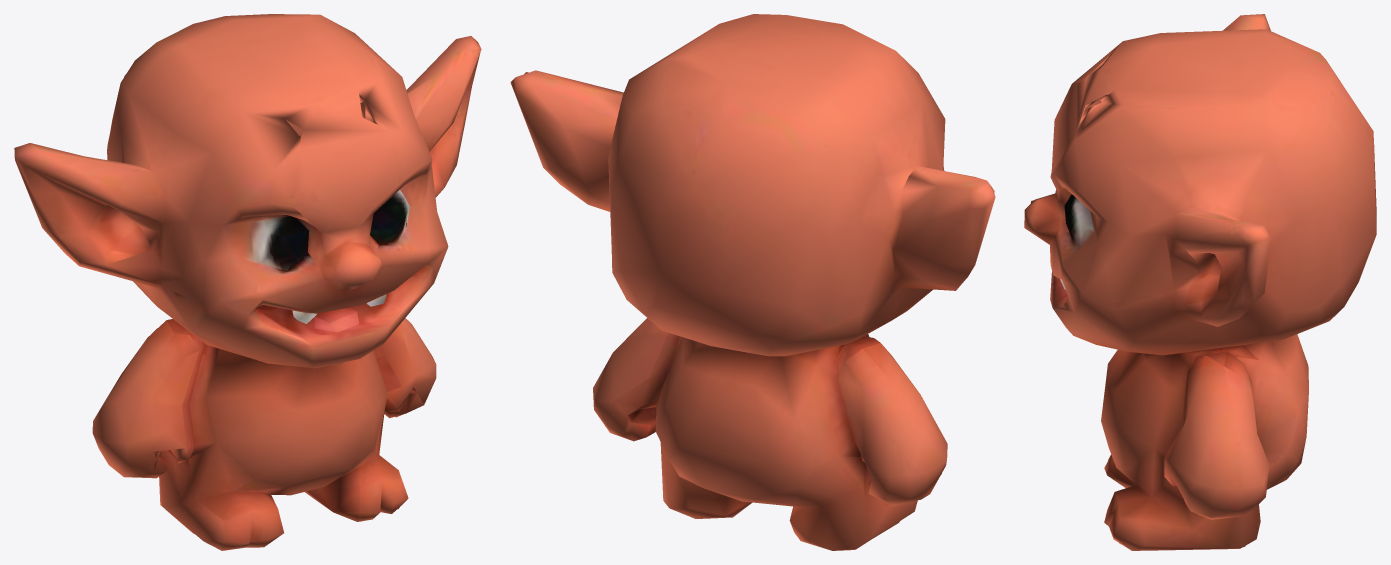
The model's file is x-statue-goblin.glb.
3 views of the same model, side by side, from view 1: azimuth 30°, elevation 25°; view 2: azimuth 150°, elevation 25°; view 3: azimuth 270°, elevation 25° (orthographic). The views are drawn at different scales.
Parts seen in each view (by area): view 1: geometry_0; view 2: geometry_0; view 3: geometry_0.
Boxes of the visible parts, x1,y1,x2,y2 form: geometry_0: (14, 14, 481, 550); geometry_0: (510, 14, 995, 550); geometry_0: (1024, 14, 1376, 550).
Bounding box in the file's own units: 1 × 0.918 × 0.6612.
Materials: 1 (1 with a texture image).
